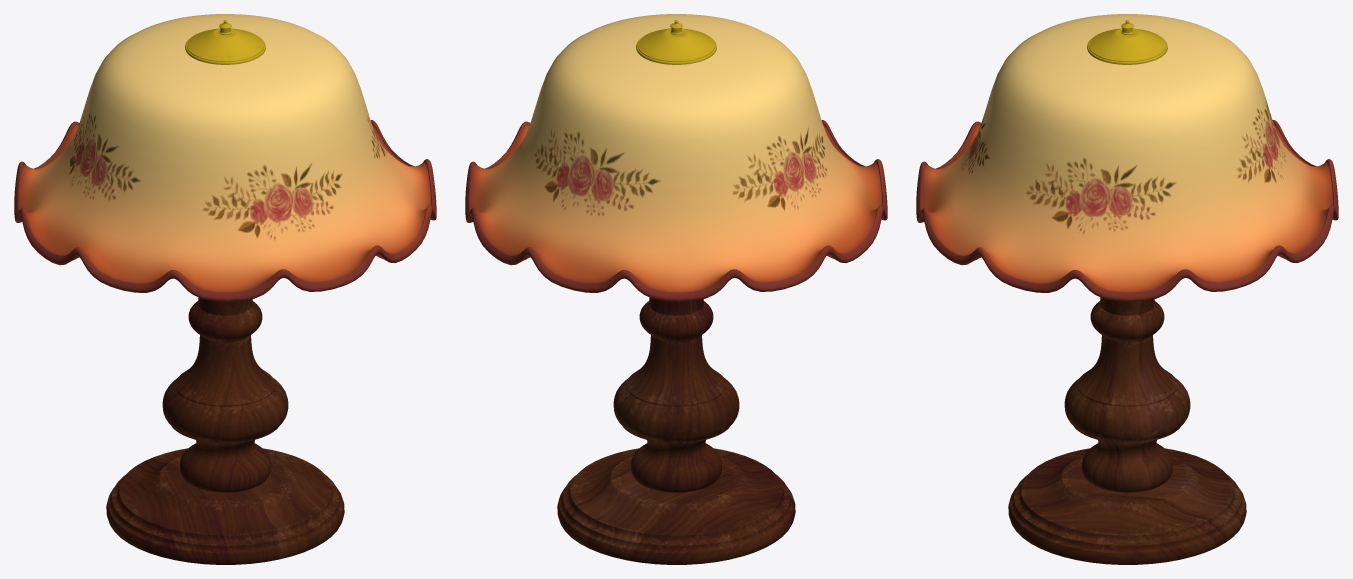
The model's file is Table Lamp 2.fbx.
3 views of the same model, side by side, from view 1: azimuth 30°, elevation 25°; view 2: azimuth 150°, elevation 25°; view 3: azimuth 270°, elevation 25° (orthographic).
Visible parts, largest first — view 1: polySurface3, polySurface5; view 2: polySurface3, polySurface5; view 3: polySurface3, polySurface5.
Boxes of the visible parts, x1,y1,x2,y2 form: polySurface3: (14,14,436,301); polySurface5: (106,20,344,564); polySurface3: (465,14,887,301); polySurface5: (557,20,795,564); polySurface3: (916,14,1338,301); polySurface5: (1008,20,1246,564).
Size of the model in its own units: 8.47 by 10.96 by 8.47.
